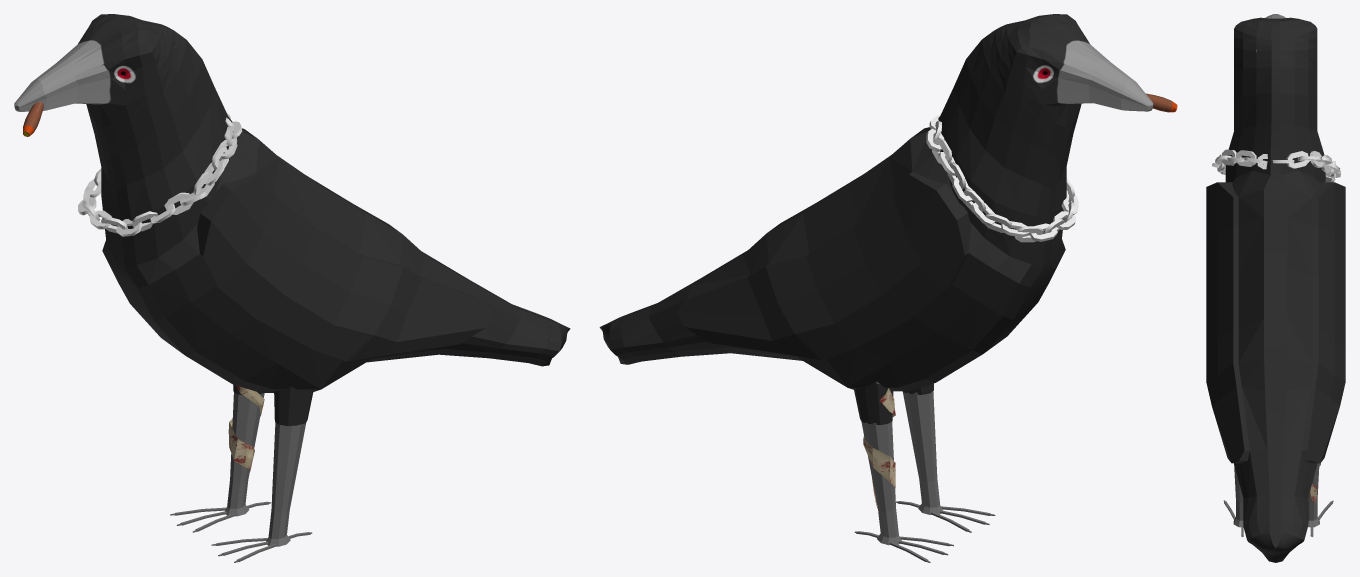
File: crowboss.fbx
3 renders of one model, left to right at view 1: azimuth 30°, elevation 25°; view 2: azimuth 150°, elevation 25°; view 3: azimuth 270°, elevation 25°, orthographic. The views are drawn at different scales.
Visible parts, largest first — view 1: Plane003, Plane014, Plane007, Box109, Plane012; view 2: Plane003, Plane014, Plane007, Box109, Plane012; view 3: Plane003, Plane014, Box109, Plane007.
Boxes of the visible parts, left/top/right/bottom form: Plane003: left=14, top=14, right=570, bottom=392; Plane014: left=197, top=172, right=491, bottom=361; Plane007: left=170, top=384, right=313, bottom=562; Box109: left=78, top=113, right=242, bottom=236; Plane012: left=228, top=385, right=264, bottom=472; Plane003: left=599, top=14, right=1153, bottom=391; Plane014: left=677, top=172, right=971, bottom=360; Plane007: left=854, top=381, right=995, bottom=562; Box109: left=926, top=115, right=1078, bottom=242; Plane012: left=863, top=388, right=895, bottom=511; Plane003: left=1225, top=14, right=1325, bottom=562; Plane014: left=1206, top=182, right=1345, bottom=463; Box109: left=1212, top=149, right=1340, bottom=182; Plane007: left=1223, top=463, right=1333, bottom=536.
Size of the model in its own units: 21.8 by 19.84 by 5.55.
